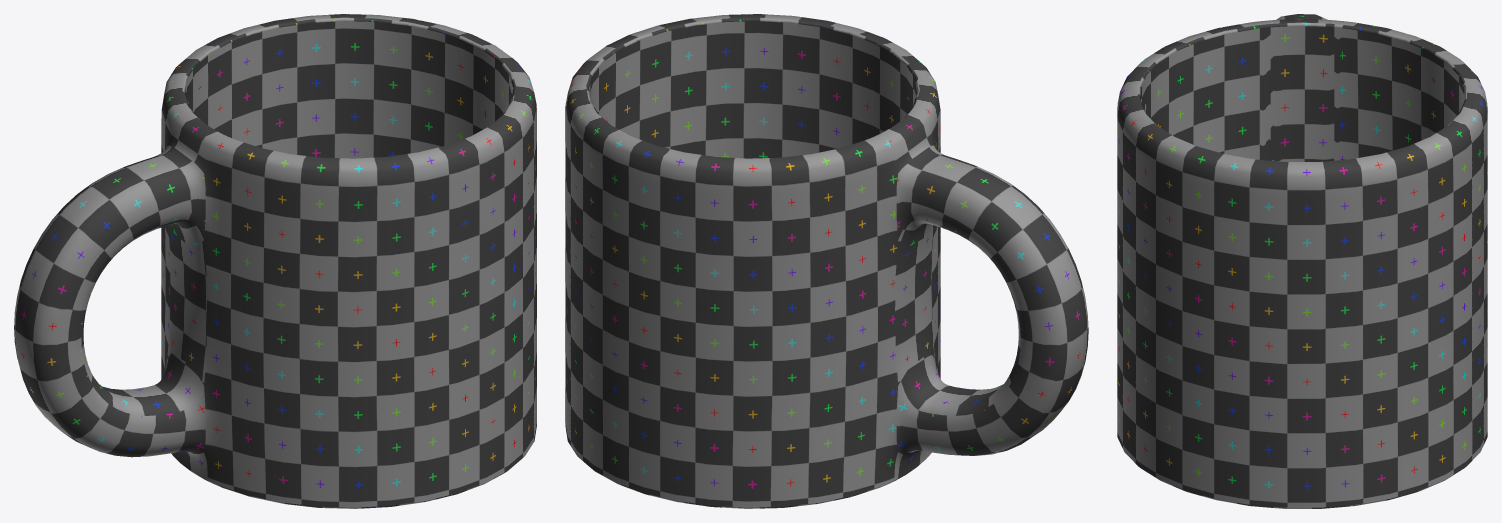
The model's file is coffee-mug.glb.
3 renders of one model, left to right at view 1: azimuth 30°, elevation 25°; view 2: azimuth 150°, elevation 25°; view 3: azimuth 270°, elevation 25°, orthographic.
Visible parts, largest first — view 1: Coffee mug (desimate backup).001; view 2: Coffee mug (desimate backup).001; view 3: Coffee mug (desimate backup).001.
Boxes of the visible parts, <box> form: Coffee mug (desimate backup).001: <box>14,14,536,508</box>; Coffee mug (desimate backup).001: <box>565,14,1088,508</box>; Coffee mug (desimate backup).001: <box>1117,14,1487,508</box>.
Size of the model in its own units: 2.99 by 2 by 1.98.
Materials: 1 (1 with a texture image).
